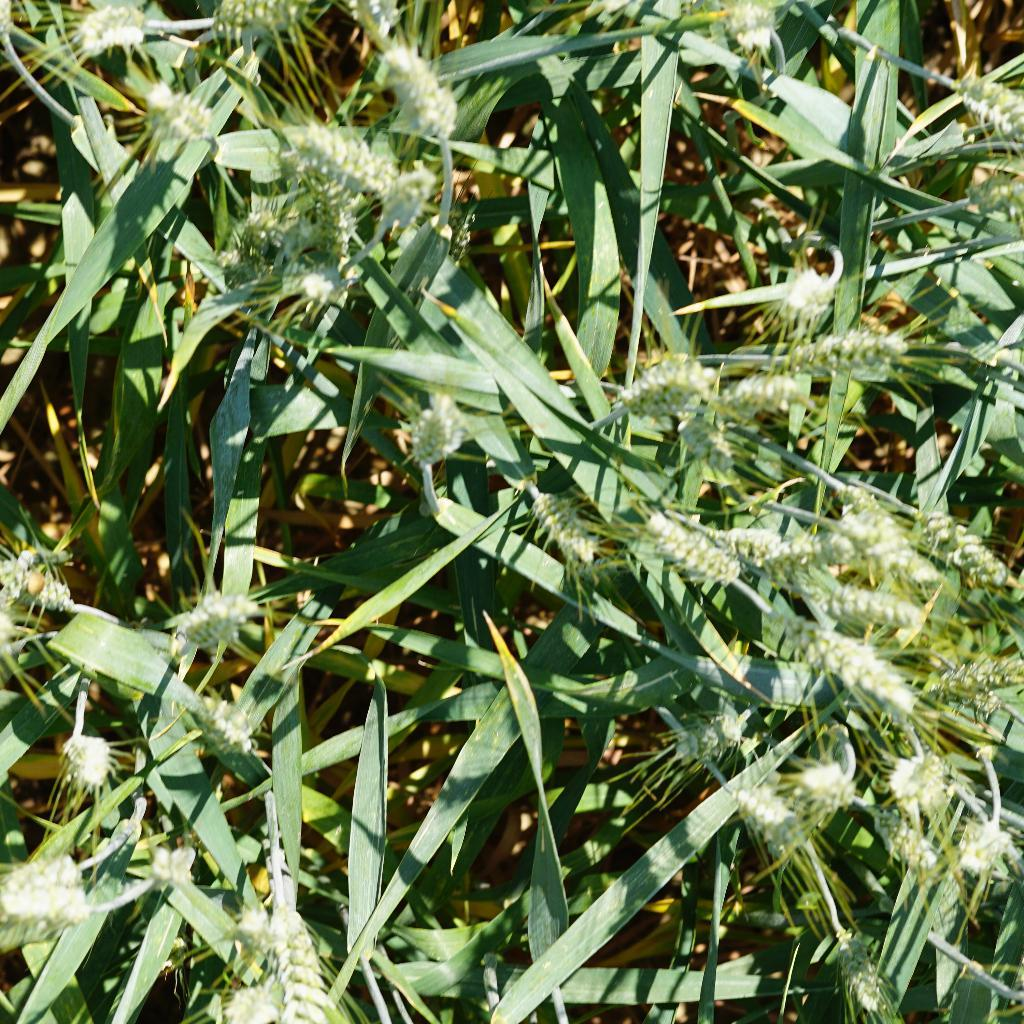0-0: (800, 616, 935, 718), (265, 104, 400, 202), (265, 881, 348, 1024), (369, 38, 468, 156), (642, 505, 746, 600), (907, 503, 1012, 594), (157, 570, 269, 654), (828, 471, 918, 567), (519, 482, 606, 579), (819, 922, 900, 1024), (389, 384, 471, 481), (935, 52, 1024, 141), (612, 351, 717, 426), (0, 533, 92, 617), (127, 73, 223, 150), (0, 849, 92, 926), (815, 582, 941, 638), (778, 322, 914, 373), (875, 737, 953, 823), (862, 793, 937, 879), (755, 518, 856, 580), (722, 774, 799, 855), (179, 688, 262, 763), (665, 697, 748, 766), (710, 365, 803, 425), (303, 169, 367, 256), (59, 729, 137, 799), (937, 645, 1020, 707), (950, 803, 1009, 889), (137, 834, 208, 904), (198, 0, 318, 40), (66, 0, 146, 59), (714, 0, 784, 63), (793, 754, 855, 825), (776, 272, 844, 331), (675, 410, 740, 470), (208, 225, 269, 287), (212, 968, 277, 1024), (969, 164, 1024, 223), (231, 204, 287, 260), (296, 256, 354, 305), (733, 511, 787, 560), (949, 681, 1012, 721), (148, 927, 195, 976), (228, 901, 269, 955)
